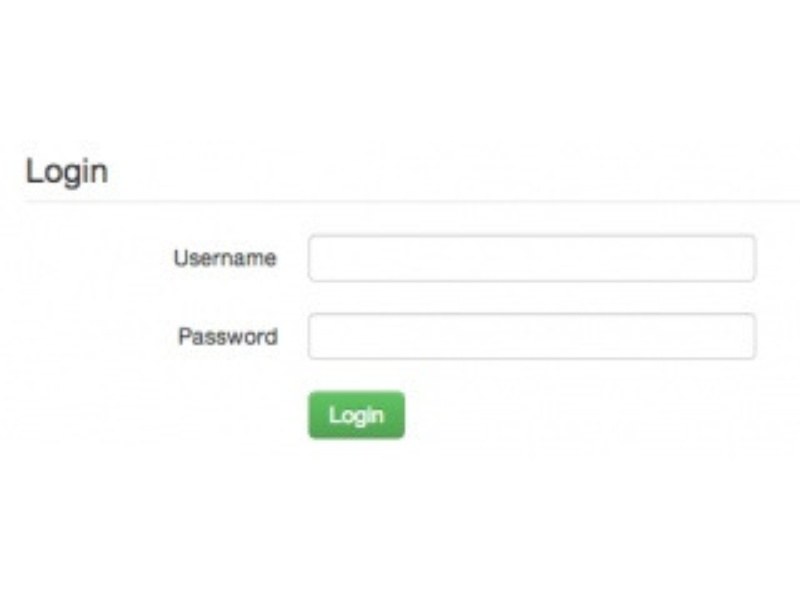button: (307, 390, 406, 440)
input: (309, 234, 758, 282), (306, 312, 757, 358)
